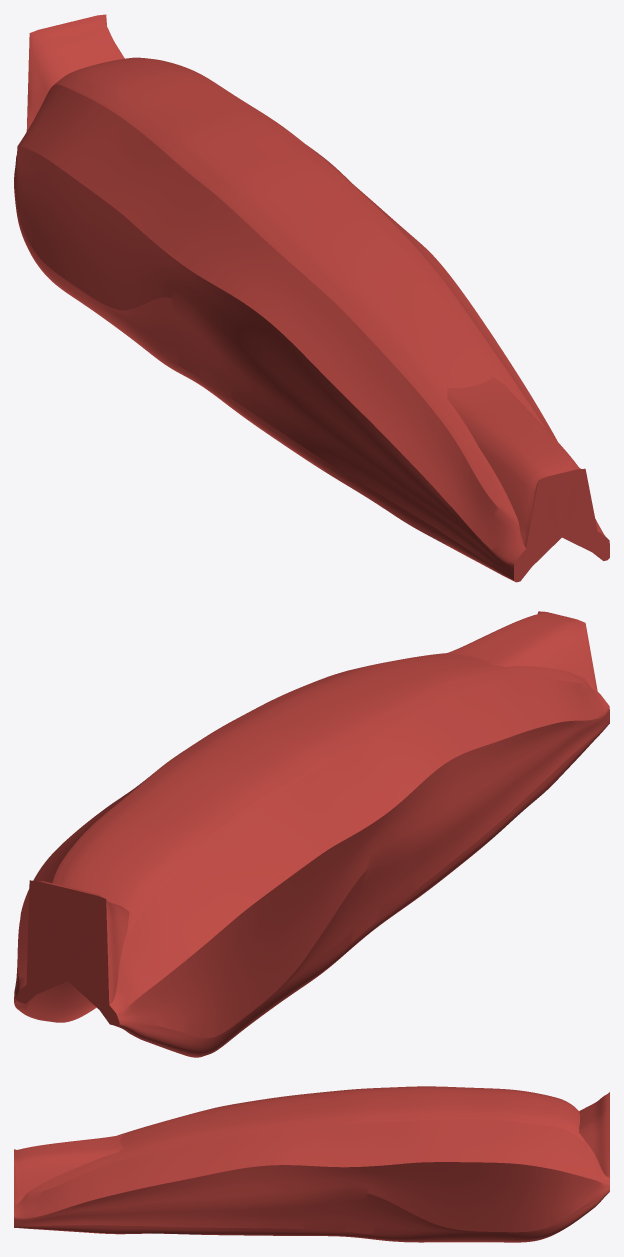
Rendered from bobber_3.glb.
The picture shows the model from 3 angles, top to bottom: view 1: azimuth 30°, elevation 25°; view 2: azimuth 150°, elevation 25°; view 3: azimuth 270°, elevation 25°; orthographic projection. The views are drawn at different scales.
Visible parts, largest first — view 1: lod0; view 2: lod0; view 3: lod0.
Part boxes in pixels (box(x1,y1,x2,y2)): lod0: box(14, 14, 609, 582); lod0: box(14, 611, 609, 1057); lod0: box(14, 1086, 609, 1242).
Size of what is drawn, in the model's own units: 0.2599 by 0.2438 by 1.06.
